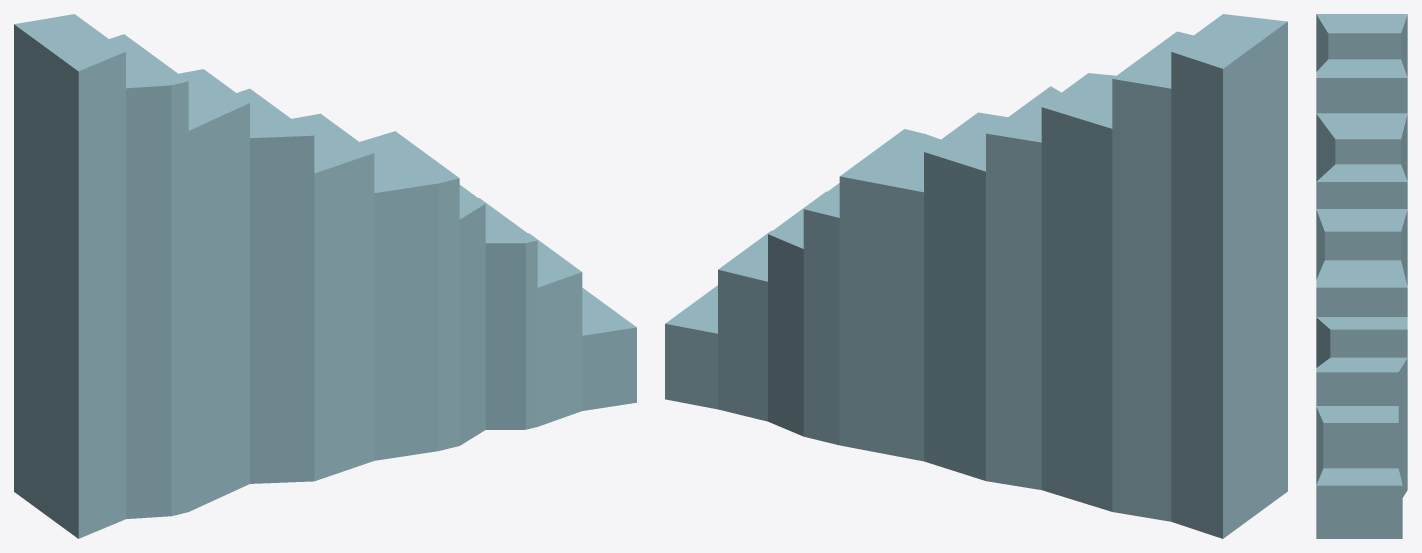
The model's file is Terrain_Tile_Ice_Stairs_01.fbx.
3 views of the same model, side by side, from view 1: azimuth 30°, elevation 25°; view 2: azimuth 150°, elevation 25°; view 3: azimuth 270°, elevation 25° (orthographic). The views are drawn at different scales.
Visible parts, largest first — view 1: Terrain_Tile_Ice_Stairs_01; view 2: Terrain_Tile_Ice_Stairs_01; view 3: Terrain_Tile_Ice_Stairs_01.
Boxes of the visible parts, x1,y1,x2,y2 form: Terrain_Tile_Ice_Stairs_01: (14, 14, 636, 538); Terrain_Tile_Ice_Stairs_01: (665, 14, 1287, 538); Terrain_Tile_Ice_Stairs_01: (1316, 14, 1407, 538).
Size of the model in its own units: 157 by 126 by 31.5.
